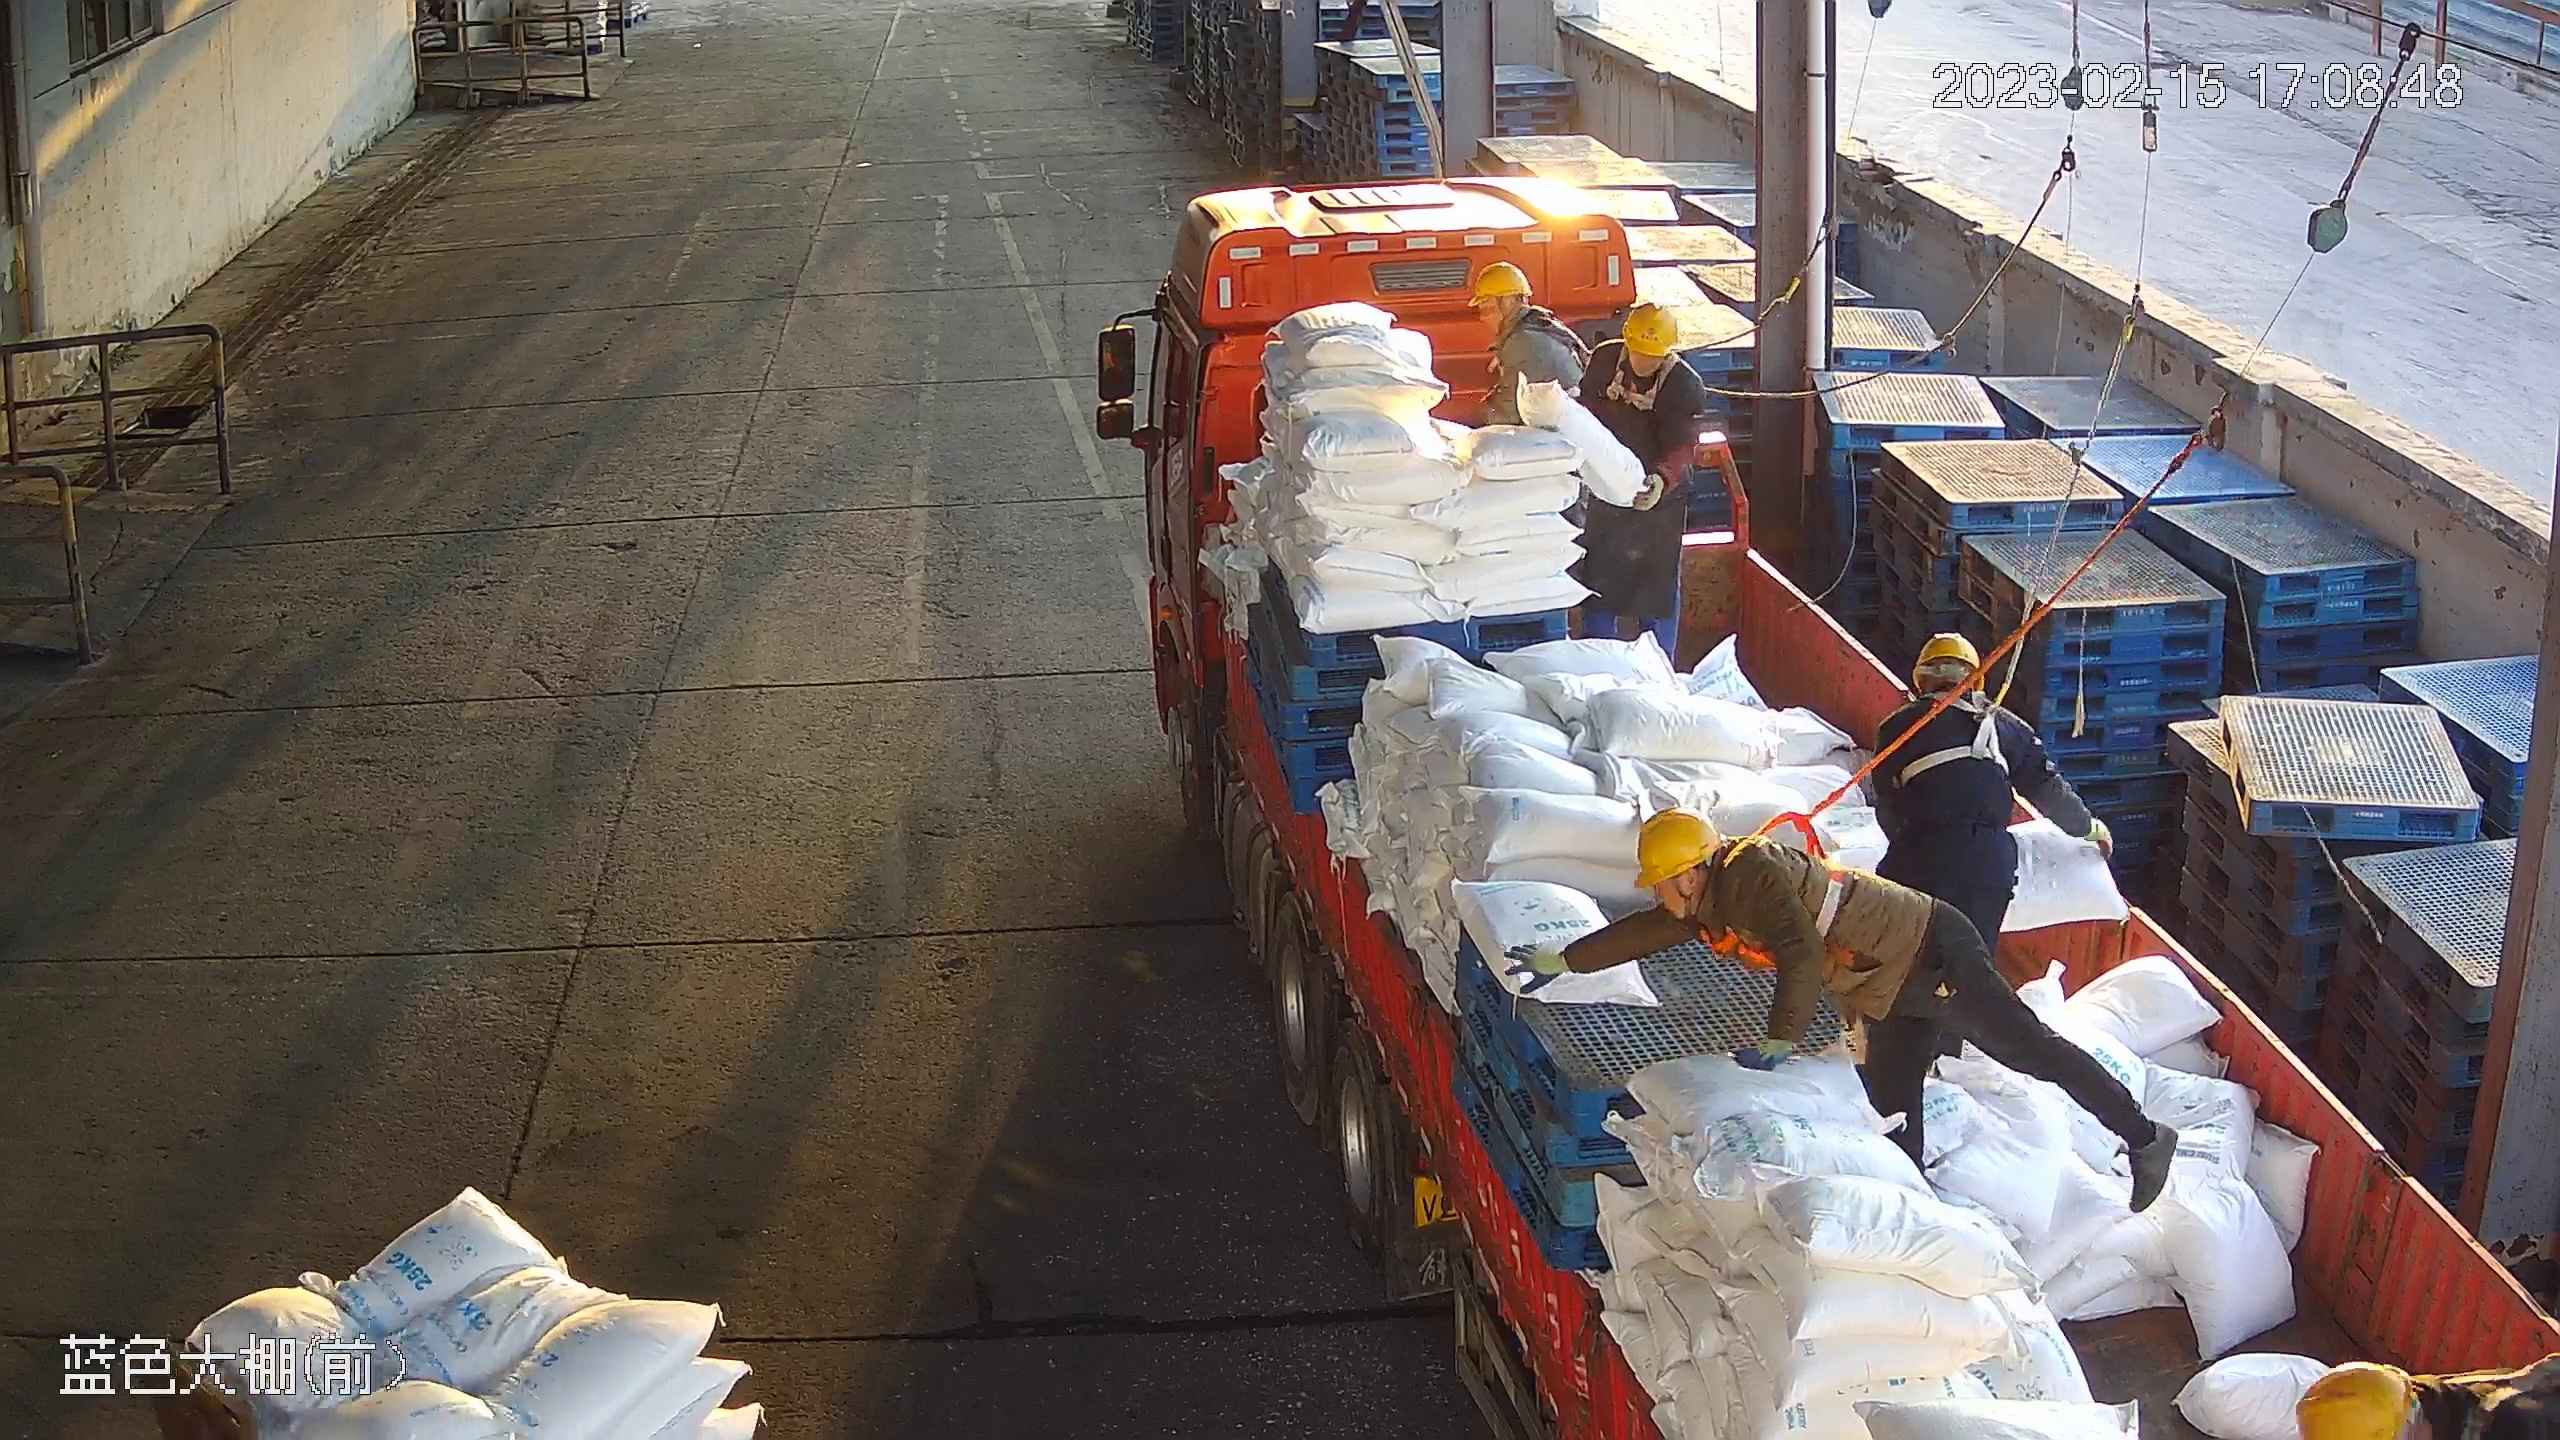belt: (1701, 784, 1852, 972), (1901, 669, 2023, 786), (2447, 1356, 2545, 1439), (1593, 354, 1698, 427)
head: (1612, 803, 1790, 961), (1876, 627, 2029, 766), (1574, 305, 1708, 422), (1464, 259, 1582, 389)
helmet: (2300, 1364, 2415, 1440), (1634, 810, 1722, 888), (1912, 635, 1981, 688), (1618, 301, 1681, 359), (1469, 261, 1534, 308)
people: (1503, 806, 2179, 1220), (1871, 630, 2112, 1000), (1573, 301, 1708, 679)
truck: (1091, 167, 2560, 1440)
